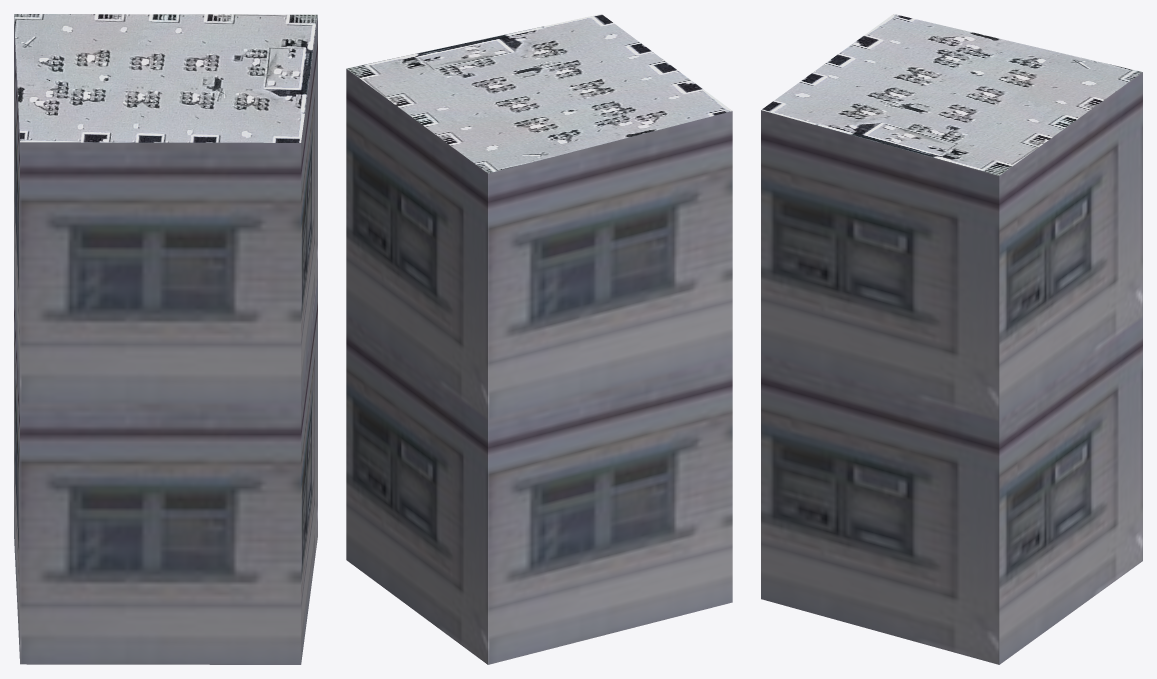
The model's file is ResTex__3732.fbx.
3 renders of one model, left to right at view 1: azimuth 30°, elevation 25°; view 2: azimuth 150°, elevation 25°; view 3: azimuth 270°, elevation 25°, orthographic. The views are drawn at different scales.
Visible parts, largest first — view 1: CityEngineMaterial_1_m, CityEngineMaterial_m; view 2: CityEngineMaterial_1_m, CityEngineMaterial_m; view 3: CityEngineMaterial_1_m, CityEngineMaterial_m.
Boxes of the visible parts, x1,y1,x2,y2 form: CityEngineMaterial_1_m: (14, 16, 317, 664); CityEngineMaterial_m: (14, 14, 317, 142); CityEngineMaterial_1_m: (346, 69, 732, 664); CityEngineMaterial_m: (346, 14, 732, 173); CityEngineMaterial_1_m: (761, 72, 1142, 664); CityEngineMaterial_m: (761, 14, 1142, 175).
Bounding box in the file's own units: 4.26 × 6 × 4.25.
Materials: 2 (2 with a texture image).
